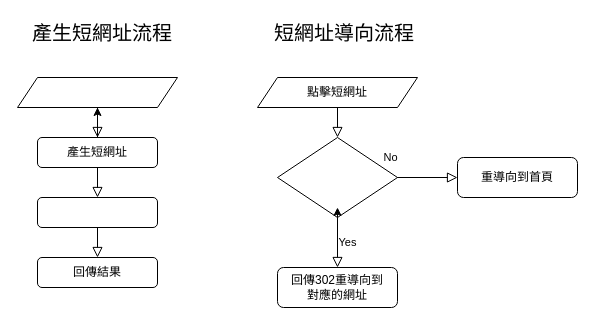
Some shapes in this 595 by 325 pixel diagram are drawn without their labels. Each missing label, with the centre of its shape:
儲存到DB: (x=97, y=212)
判斷網址是否存在: (x=337, y=177)
輸入長網址: (x=97, y=92)
